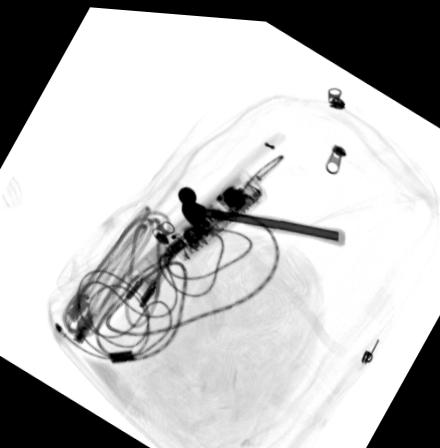Hammer: (176, 181, 346, 242)
